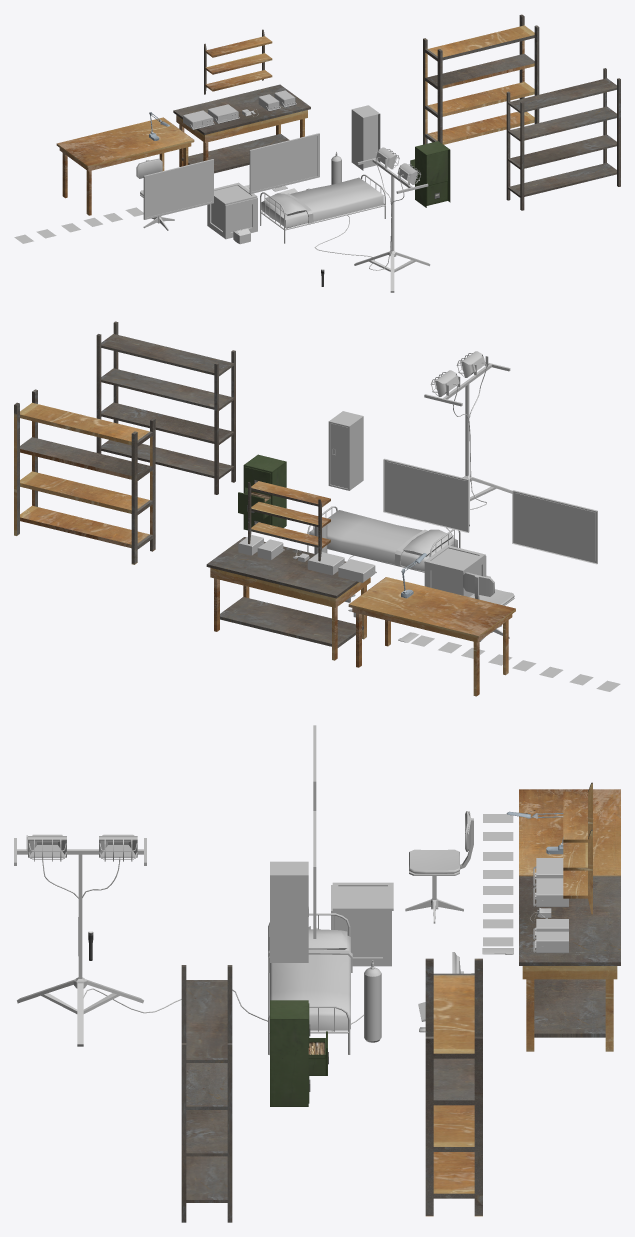
The model's file is furniture.FBX.
The picture shows the model from 3 angles, top to bottom: view 1: azimuth 30°, elevation 25°; view 2: azimuth 150°, elevation 25°; view 3: azimuth 270°, elevation 25°; orthographic projection. The views are drawn at different scales.
Parts seen in each view (by area): view 1: shelves_wooden, shelves_steel, bench, reception_desk, bed_single, blackboard_01, pinboard_1, filing cabinet, shelves_wall_mounted, locker003, lighting_stand, crate (+4 smaller); view 2: shelves_wooden, shelves_steel, bench, reception_desk, bed_single, pinboard_1, blackboard_01, shelves_wall_mounted, locker003, filing cabinet, lighting_stand, crate (+4 smaller); view 3: shelves_wooden, bench, shelves_steel, bed_single, reception_desk, filing cabinet, locker003, shelves_wall_mounted, lighting_stand, crate, office chair_a, crate_lid (+5 smaller).
Boxes of the visible parts, <box> form: shelves_wooden: <box>423,14,539,144</box>; shelves_steel: <box>506,68,620,210</box>; bench: <box>173,84,310,173</box>; reception_desk: <box>56,117,194,215</box>; bed_single: <box>260,174,385,243</box>; blackboard_01: <box>143,159,213,219</box>; pinboard_1: <box>249,133,319,194</box>; filing cabinet: <box>410,141,450,207</box>; shelves_wall_mounted: <box>204,29,272,94</box>; locker003: <box>351,105,380,170</box>; lighting_stand: <box>314,152,430,292</box>; crate: <box>207,197,257,239</box>; shelves_wooden: <box>14,389,155,564</box>; shelves_steel: <box>96,321,235,494</box>; bench: <box>206,537,370,660</box>; reception_desk: <box>348,577,515,696</box>; bed_single: <box>307,506,460,572</box>; pinboard_1: <box>383,458,469,532</box>; blackboard_01: <box>512,490,597,564</box>; shelves_wall_mounted: <box>248,481,330,561</box>; locker003: <box>328,411,363,490</box>; filing cabinet: <box>238,454,286,530</box>; lighting_stand: <box>348,356,512,560</box>; crate: <box>424,556,486,596</box>; shelves_wooden: <box>425,958,482,1216</box>; bench: <box>519,876,620,1051</box>; shelves_steel: <box>181,965,232,1222</box>; bed_single: <box>268,913,352,1054</box>; reception_desk: <box>519,789,620,876</box>; filing cabinet: <box>270,1000,328,1106</box>; locker003: <box>270,861,308,962</box>; shelves_wall_mounted: <box>563,782,592,914</box>; lighting_stand: <box>14,835,363,1046</box>; crate: <box>331,885,391,966</box>; office chair_a: <box>405,811,473,923</box>; crate_lid: <box>332,882,393,910</box>.
Bounding box in the file's own units: 949 × 224 × 595.
